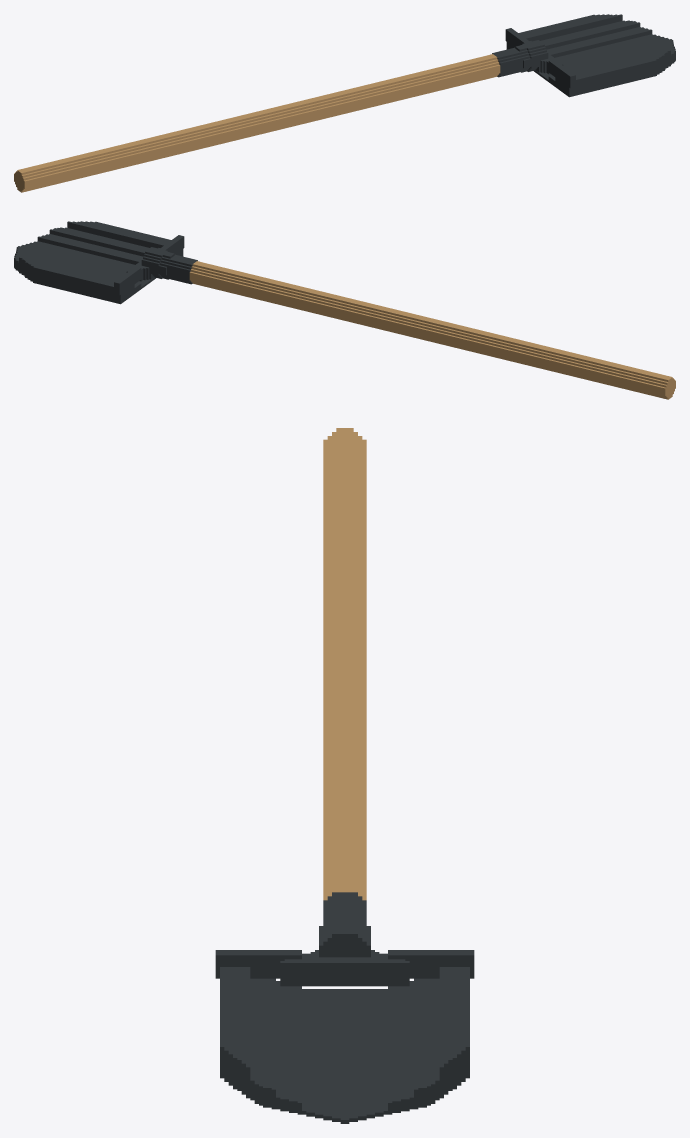
The model's file is shovel.glb.
3 views of the same model, one above another, from view 1: azimuth 30°, elevation 25°; view 2: azimuth 150°, elevation 25°; view 3: azimuth 270°, elevation 25° (orthographic). The views are drawn at different scales.
Visible parts, largest first — view 1: shovel:compound; view 2: shovel:compound; view 3: shovel:compound.
Boxes of the visible parts, x1=… form: shovel:compound: x1=14, y1=14, x2=675, y2=192; shovel:compound: x1=14, y1=221, x2=675, y2=399; shovel:compound: x1=215, y1=428, x2=474, y2=1123.
Bounding box in the file's own units: 1.4 × 0.064 × 0.24.
